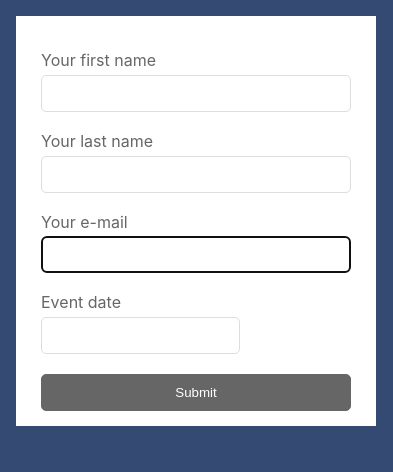
Test: EventForm component › email entered with incorrect value
Type "test" into the field labelled "Your e-mail" at {"x": 196, "y": 255}, box [41,236,351,273]
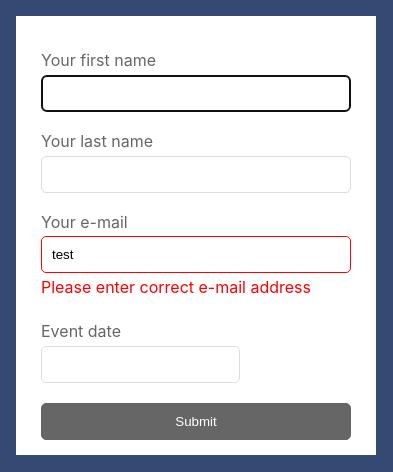
Now the text "Please enter correct e-mail address" is shown, box [41,273,351,302]
